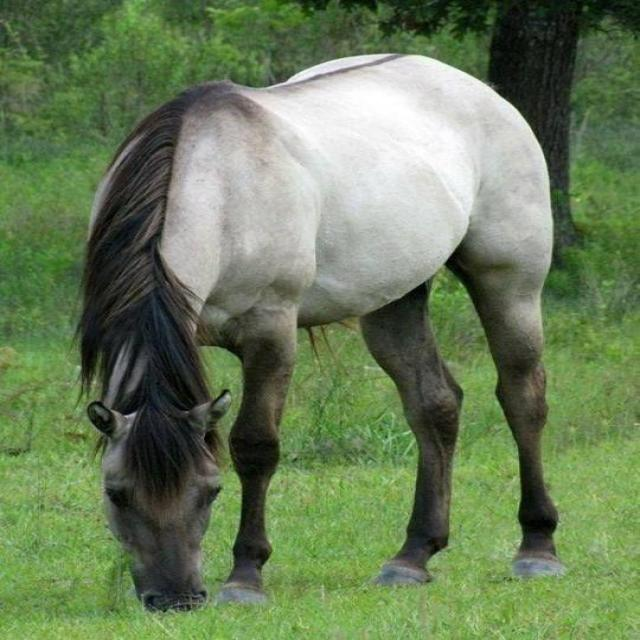horse: (71, 52, 564, 613)
